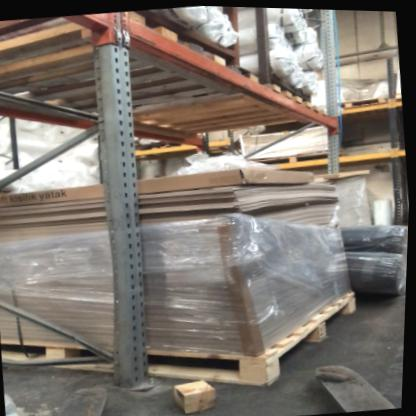vertical_damage: (110, 347, 172, 399)
